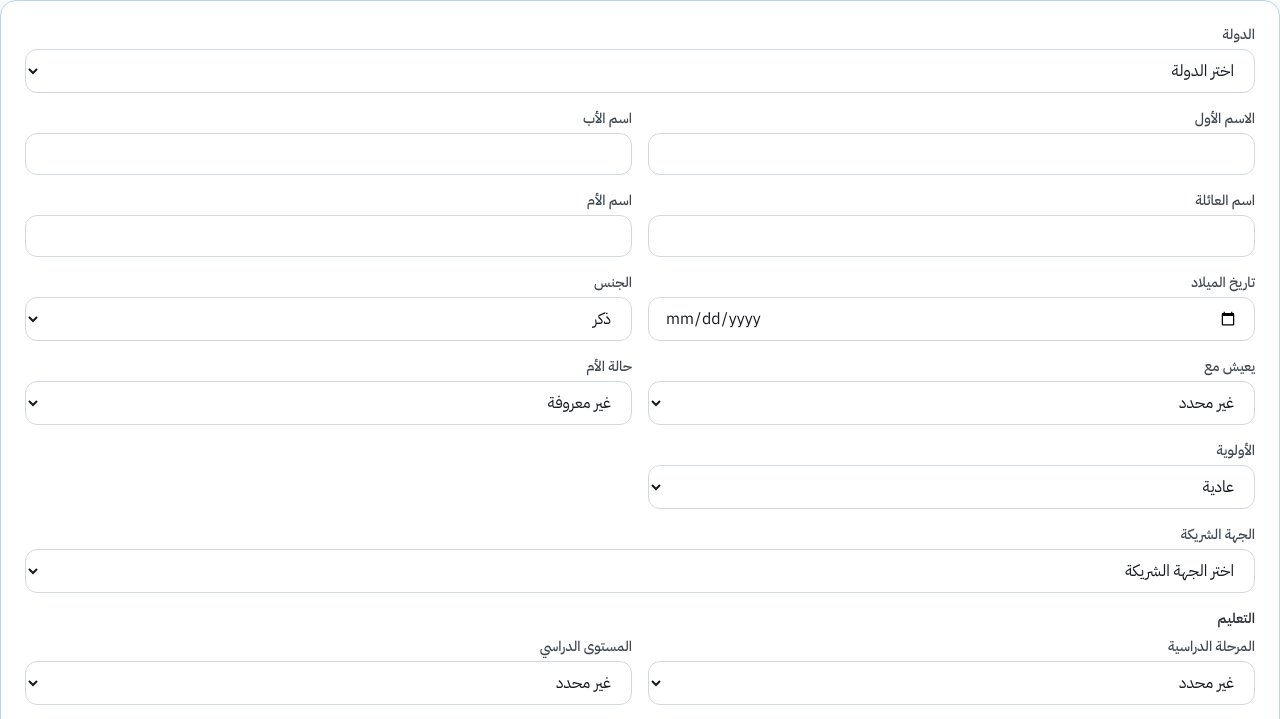
NewOrphanForm — conditional home address (staff path) › shows for 'relative' too and hides again when lives_with leaves the set
Step 1. Select "قريب" in the dropdown labelled "يعيش مع" → (952, 403), box [648,381,1255,425]
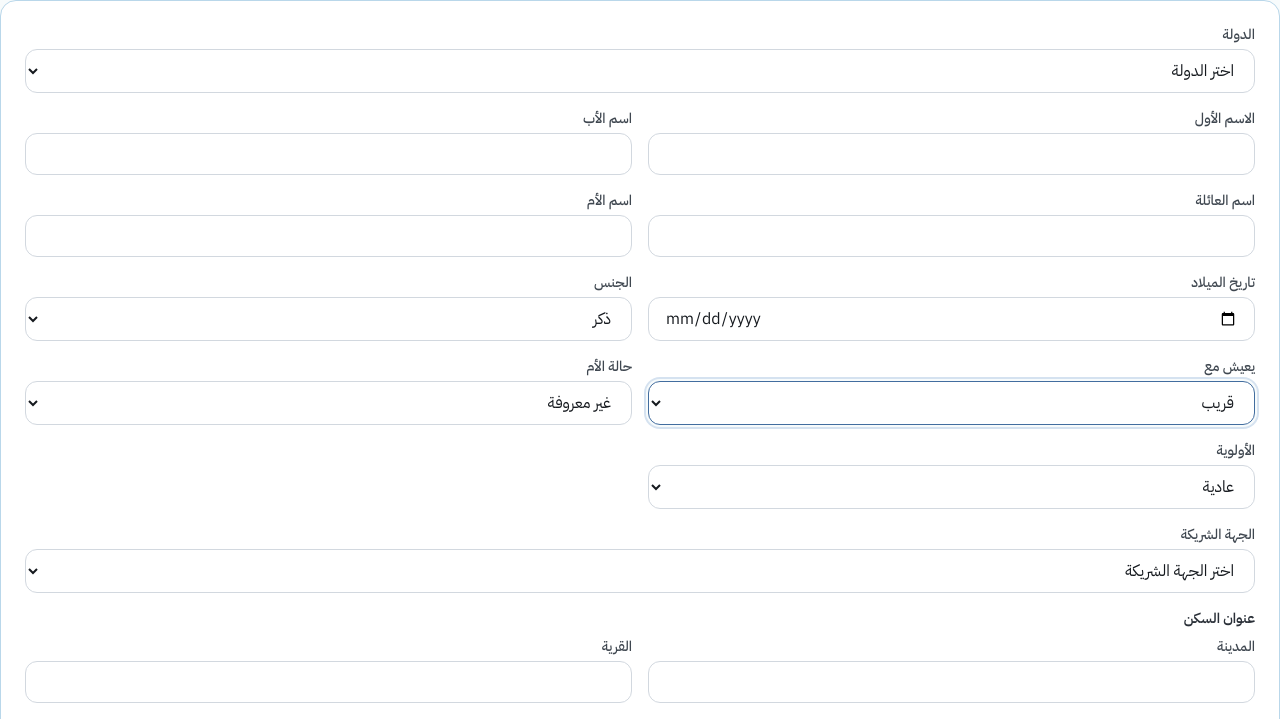
Result: the text "عنوان السكن" is shown at [1184,609,1255,629]
Step 2. Select "دار أيتام" in the dropdown labelled "يعيش مع" → (952, 403), box [648,381,1255,425]
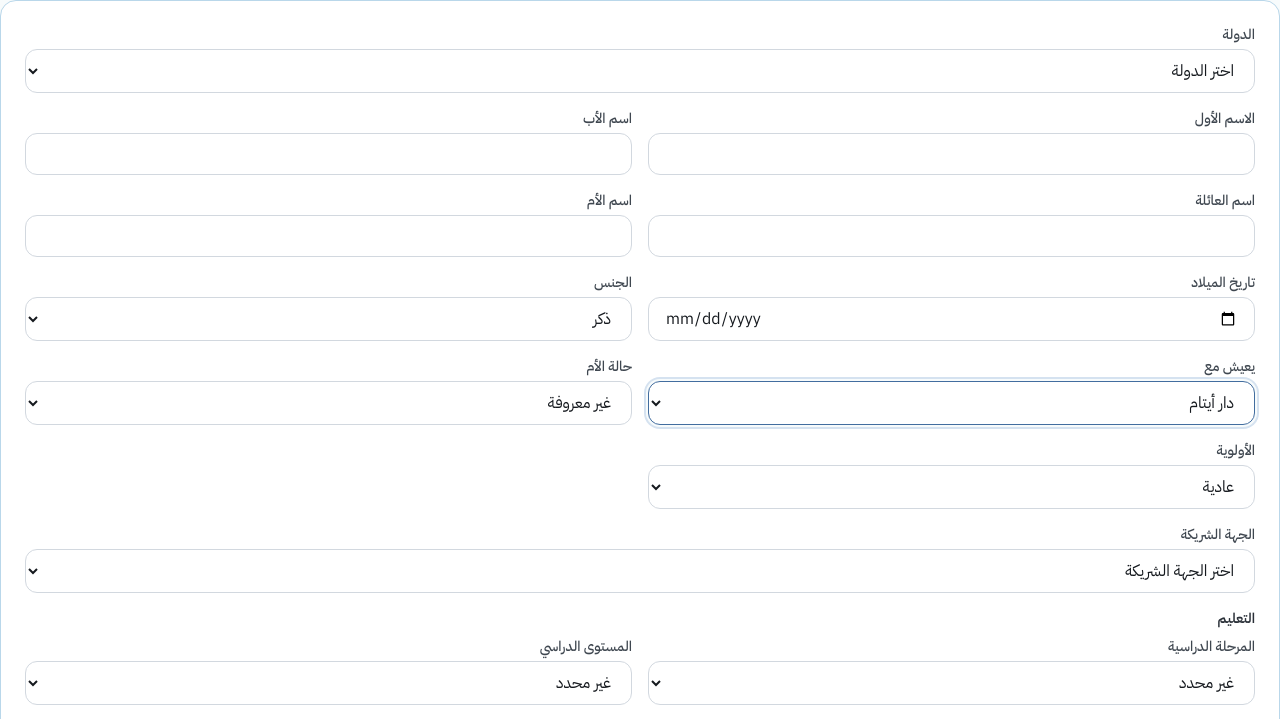
Result: the text "عنوان السكن" is gone
